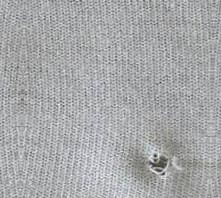hole: (144, 151, 176, 178)
